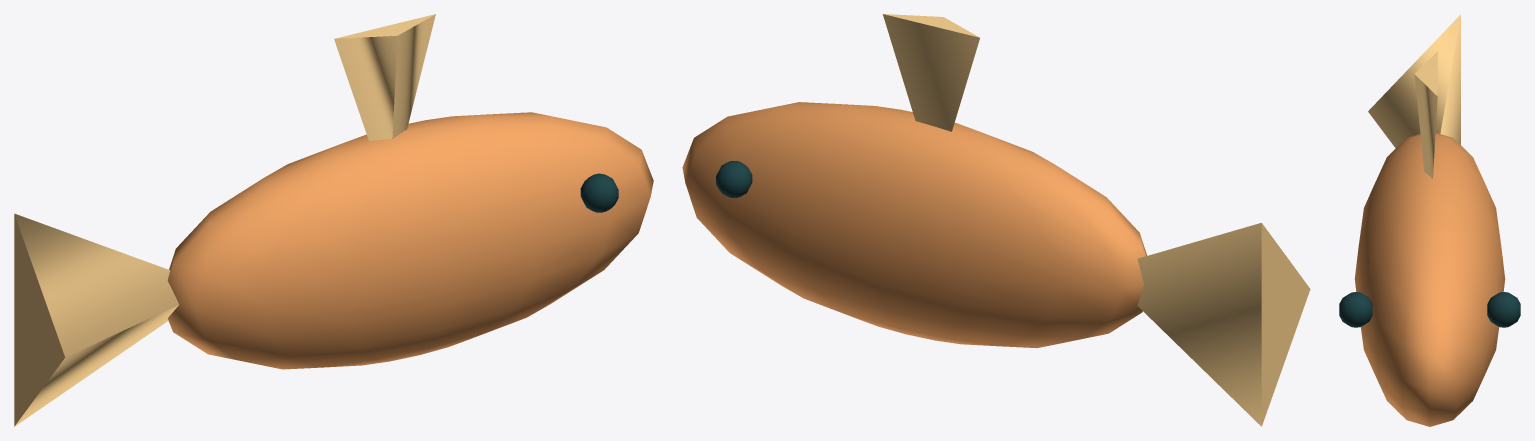
Rendered from fish.glb.
3 views of the same model, side by side, from view 1: azimuth 30°, elevation 25°; view 2: azimuth 150°, elevation 25°; view 3: azimuth 270°, elevation 25° (orthographic). The views are drawn at different scales.
Parts seen in each view (by area): view 1: Low-poly reef fish; view 2: Low-poly reef fish; view 3: Low-poly reef fish.
Part boxes in pixels (x1,y1,x2,y2): Low-poly reef fish: [14, 14, 653, 426]; Low-poly reef fish: [682, 14, 1310, 426]; Low-poly reef fish: [1339, 14, 1520, 426].
Size of the model in its own units: 2.75 by 1.38 by 0.7591.
